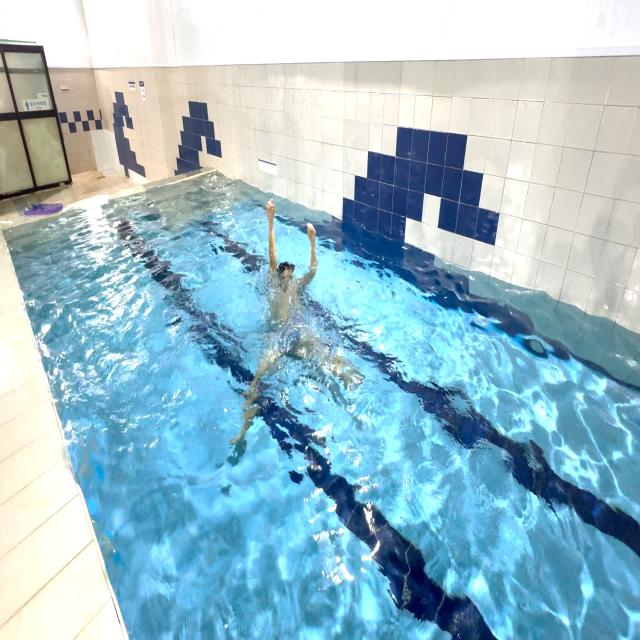Drowning: (228, 184, 349, 446)
